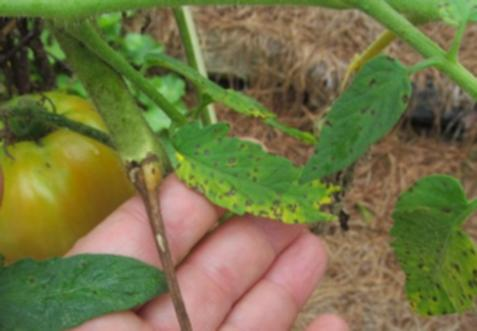Tomato Septoria leaf spot: (164, 121, 343, 230), (292, 58, 408, 188), (0, 250, 166, 331), (390, 172, 475, 319)
